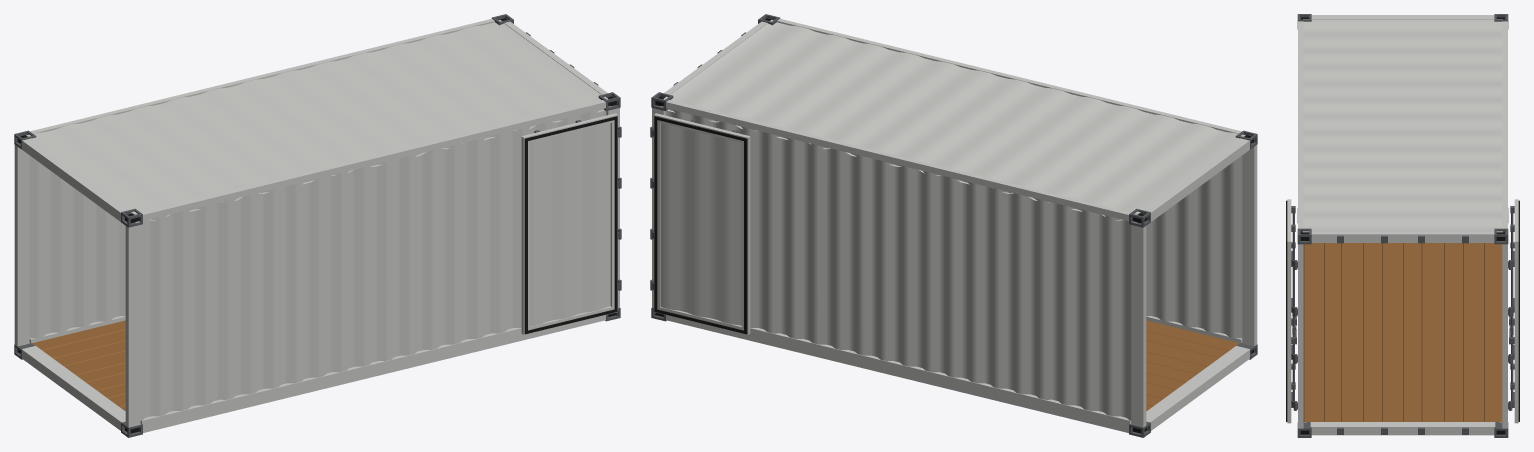
Rendered from container_open.glb.
3 views of the same model, side by side, from view 1: azimuth 30°, elevation 25°; view 2: azimuth 150°, elevation 25°; view 3: azimuth 270°, elevation 25° (orthographic). The views are drawn at different scales.
Parts seen in each view (by area): view 1: ContainerOpen; view 2: ContainerOpen; view 3: ContainerOpen.
Part boxes in pixels (box(x1,y1,x2,y2)): ContainerOpen: box(14, 14, 621, 437); ContainerOpen: box(650, 14, 1257, 437); ContainerOpen: box(1286, 14, 1519, 437).
Size of the model in its own units: 6.06 by 2.59 by 2.71.
